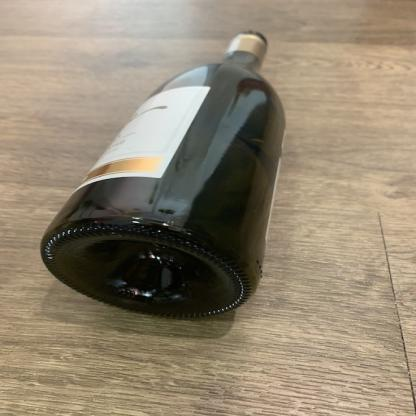trash: (39, 27, 289, 319)
